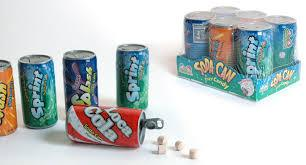Aluminum can: (57, 93, 154, 164), (17, 49, 60, 134), (111, 40, 156, 113), (58, 46, 106, 104), (226, 26, 272, 78), (0, 49, 14, 156), (206, 14, 232, 67), (180, 12, 202, 56)
